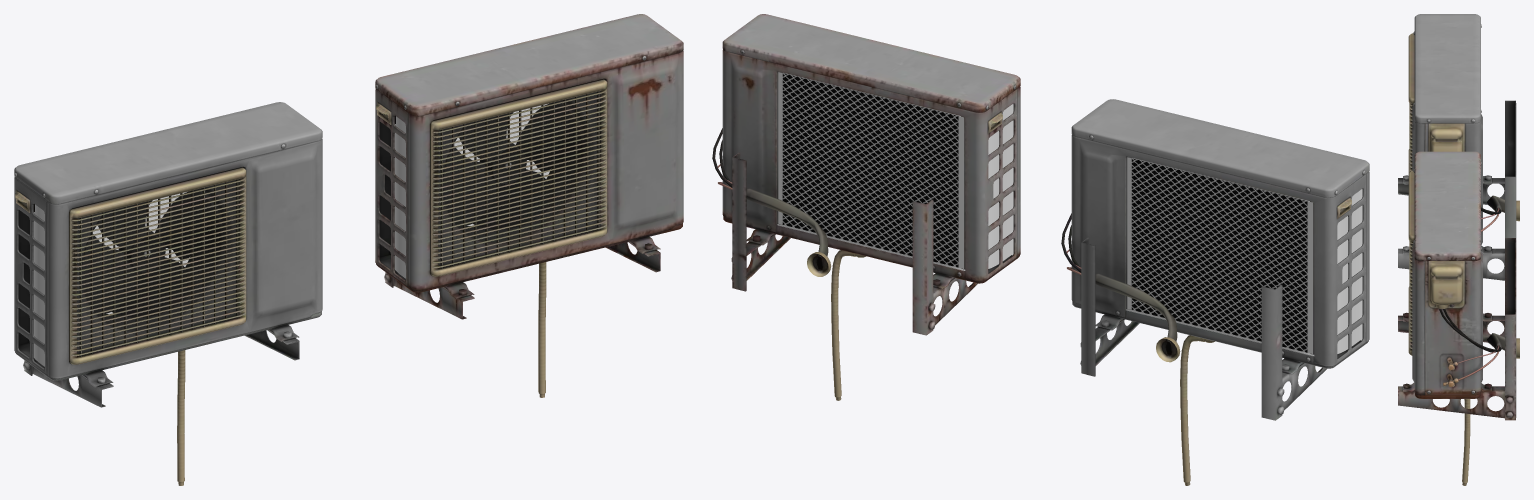
File: aircon-compressors.27b11f8a91.glb
3 renders of one model, left to right at view 1: azimuth 30°, elevation 25°; view 2: azimuth 150°, elevation 25°; view 3: azimuth 270°, elevation 25°, orthographic. The views are drawn at different scales.
Visible parts, largest first — view 1: exterior_aircon_unit_rusted, exterior_aircon_unit; view 2: exterior_aircon_unit, exterior_aircon_unit_rusted; view 3: exterior_aircon_unit_rusted, exterior_aircon_unit.
Boxes of the visible parts, box(x1,y1,x2,y2) form: exterior_aircon_unit_rusted: box(375, 14, 683, 397); exterior_aircon_unit: box(14, 102, 322, 485); exterior_aircon_unit: box(1061, 99, 1369, 485); exterior_aircon_unit_rusted: box(712, 14, 1020, 400); exterior_aircon_unit_rusted: box(1398, 151, 1519, 485); exterior_aircon_unit: box(1398, 14, 1519, 280).
Bounding box in the file's own units: 1.8 × 0.9279 × 0.3742.
Materials: 4 (4 with a texture image).
